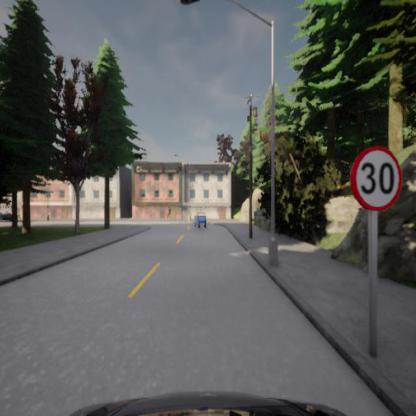traffic_sign_30: (348, 145, 404, 212)
